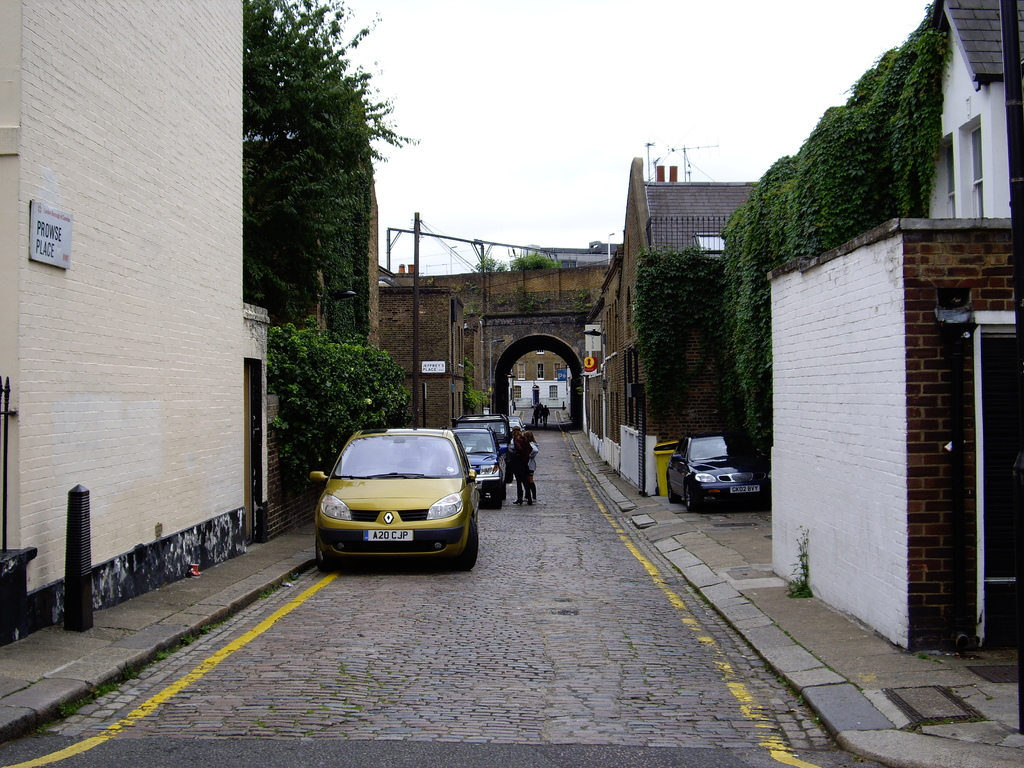Car: (305, 428, 479, 565), (666, 430, 774, 509), (453, 430, 506, 505), (447, 418, 510, 480)
